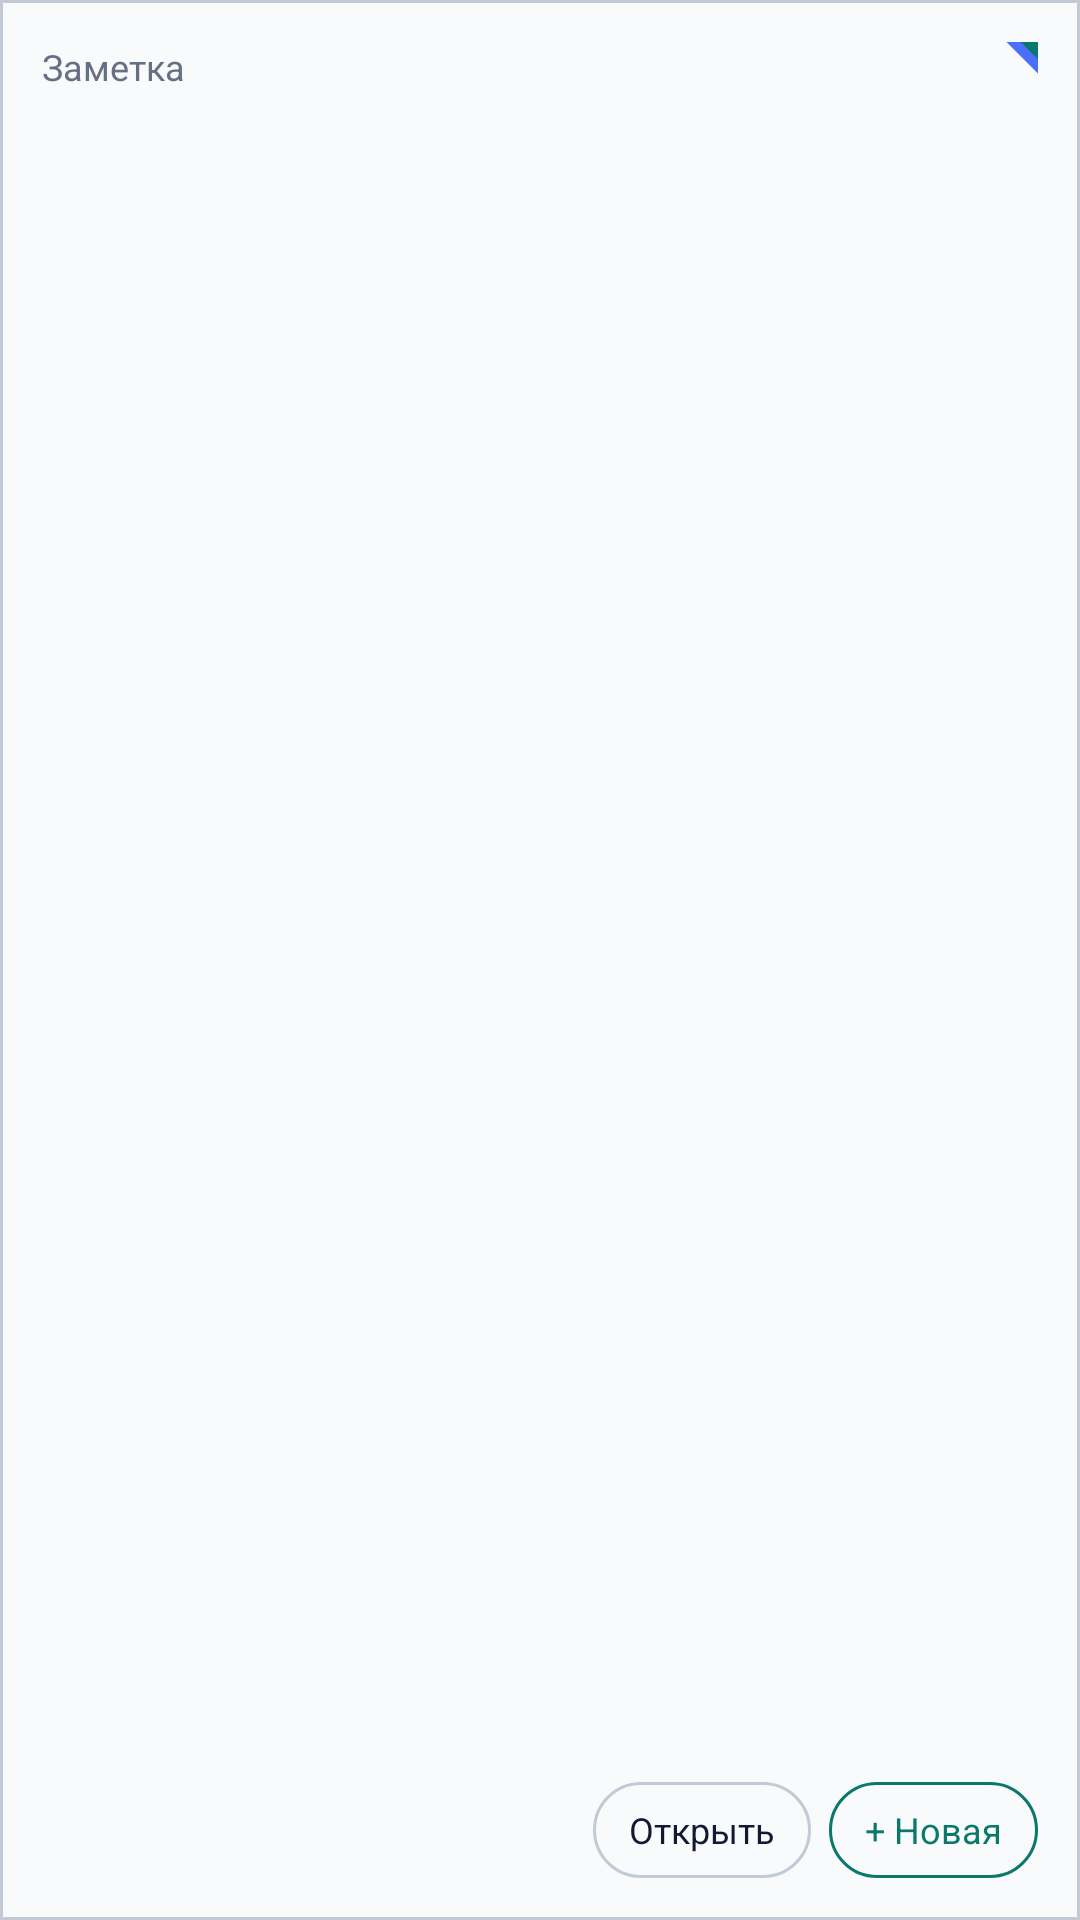

Screen size 1080×1920. Icon name, then its box in pixels as (x1, y1, x2, y2):
widget fold: (1007, 42, 1038, 73)
